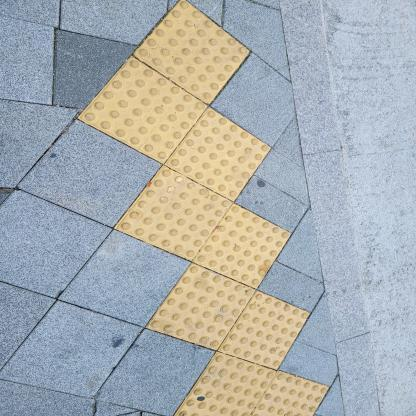podotacti: (67, 0, 337, 415)
